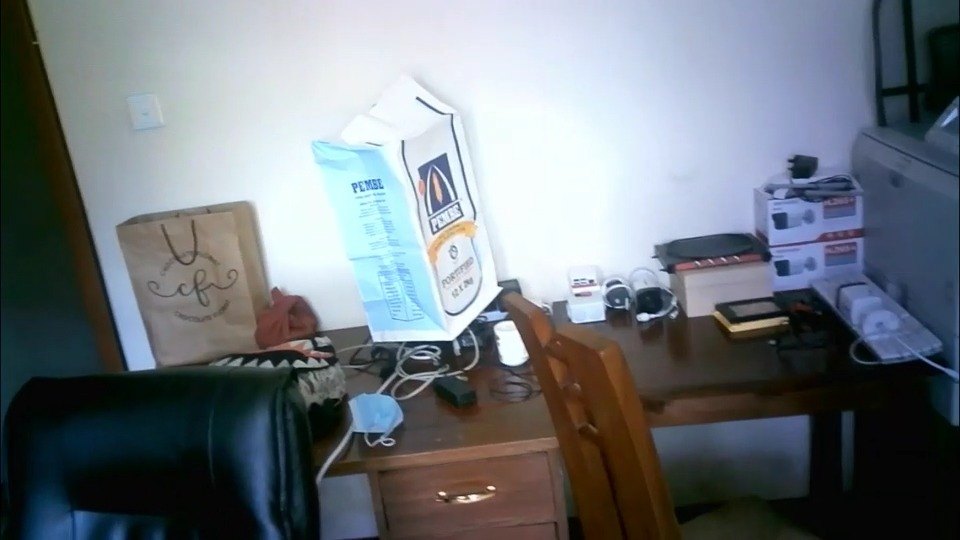wheat_flour_blue_label: (316, 78, 502, 340)
